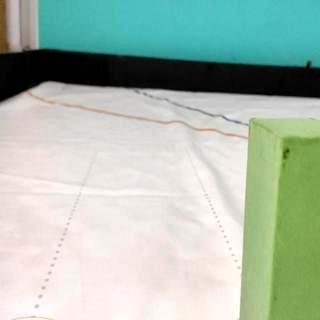greenbox: (239, 116, 320, 320)
